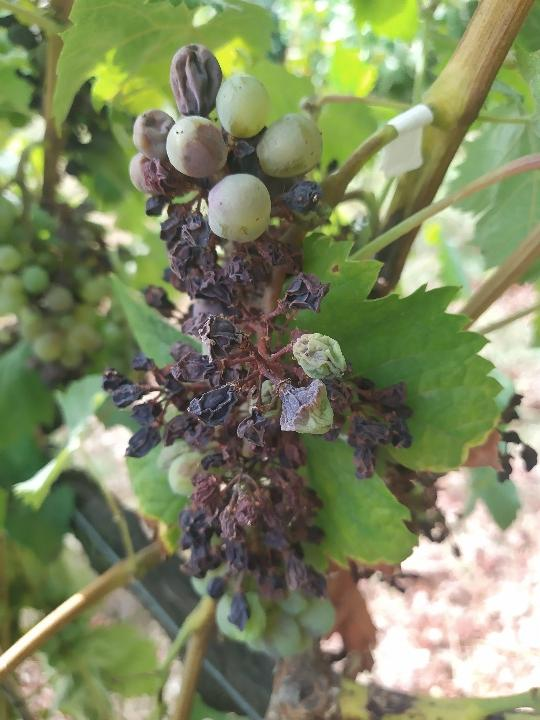grape: (96, 40, 421, 633)
